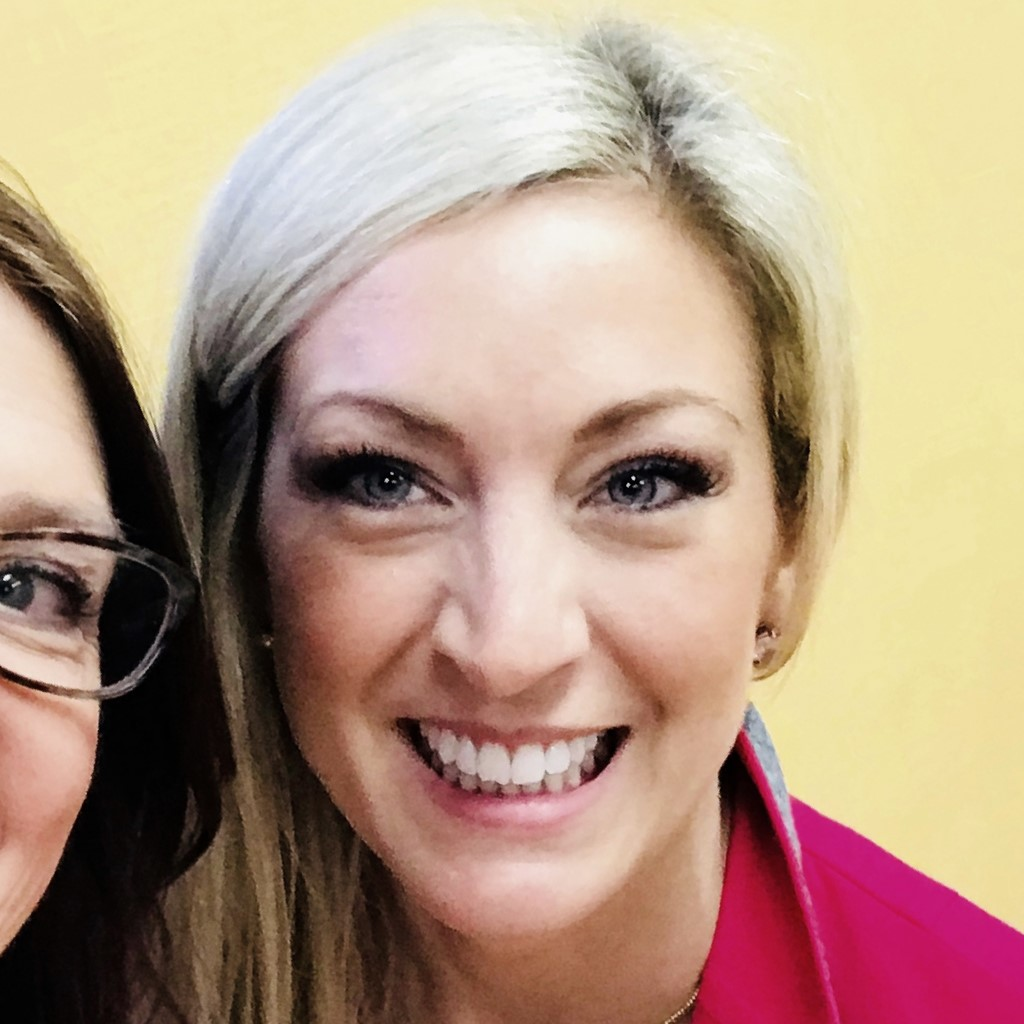sin_mascara: (183, 154, 819, 958)
